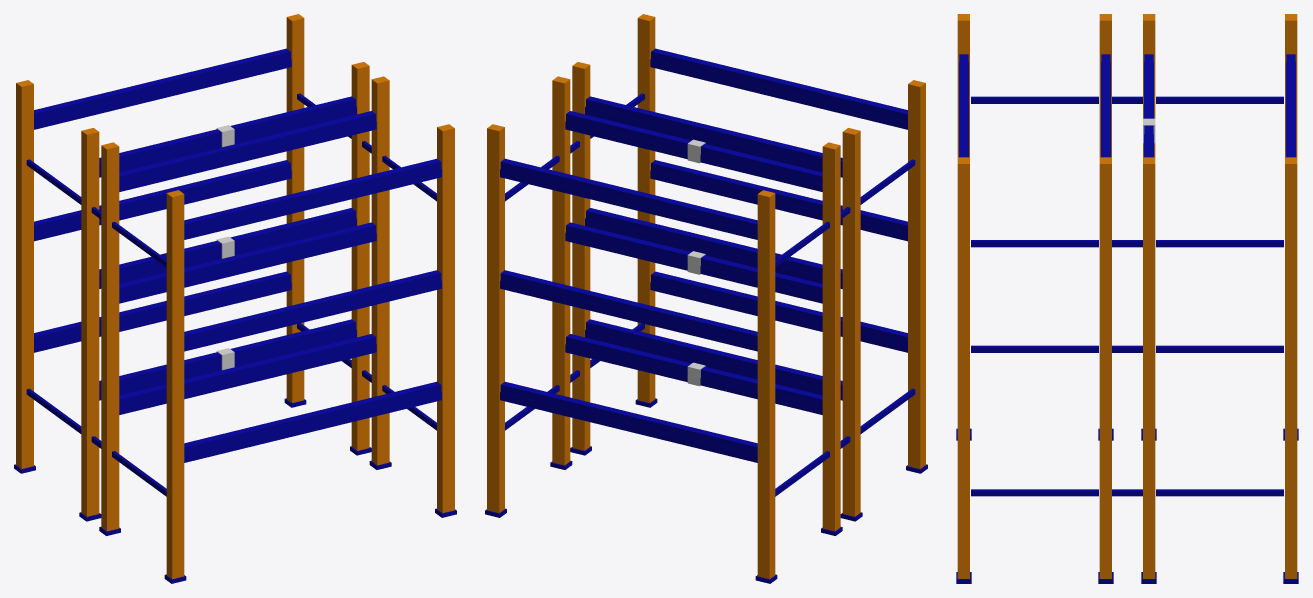
The model's file is high-duty-C23-3-pair.glb.
The picture shows the model from 3 angles, left to right: view 1: azimuth 30°, elevation 25°; view 2: azimuth 150°, elevation 25°; view 3: azimuth 270°, elevation 25°; orthographic projection. The views are drawn at different scales.
Parts seen in each view (by area): view 1: group2_geometry_0, group2_geometry_4, group1_geometry_0, group1_geometry_4, group2_geometry_2, group2_geometry_6, group1_geometry_2, group1_geometry_6, group2_geometry_12, group2_geometry_8, group2_geometry_16, group1_geometry_20 (+20 smaller); view 2: group1_geometry_4, group1_geometry_0, group2_geometry_4, group2_geometry_0, group1_geometry_6, group1_geometry_2, group2_geometry_6, group2_geometry_2, group1_geometry_15, group1_geometry_10, group1_geometry_20, group2_geometry_16 (+20 smaller); view 3: group1_geometry_2, group1_geometry_6, group2_geometry_2, group2_geometry_6, group1_geometry_20, group2_geometry_16, group2_geometry_18, group1_geometry_23, group1_geometry_24, group1_geometry_25, group1_geometry_26, group2_geometry_20 (+8 smaller).
Boxes of the visible parts, box(x1,y1,x2,y2) form: group2_geometry_0: box(166, 190, 184, 579); group2_geometry_4: box(101, 142, 119, 531); group1_geometry_0: box(81, 128, 99, 516); group1_geometry_4: box(16, 80, 33, 468); group2_geometry_2: box(437, 124, 454, 513); group2_geometry_6: box(371, 76, 389, 465); group1_geometry_2: box(351, 62, 369, 450); group1_geometry_6: box(286, 14, 304, 402); group2_geometry_12: box(184, 270, 441, 343); group2_geometry_8: box(184, 381, 441, 454); group2_geometry_16: box(184, 158, 441, 231); group1_geometry_20: box(34, 48, 290, 121); group1_geometry_4: box(757, 190, 775, 579); group1_geometry_0: box(822, 142, 840, 531); group2_geometry_4: box(842, 128, 860, 516); group2_geometry_0: box(908, 80, 925, 468); group1_geometry_6: box(487, 124, 504, 513); group1_geometry_2: box(552, 76, 570, 465); group2_geometry_6: box(572, 62, 590, 450); group2_geometry_2: box(637, 14, 655, 402); group1_geometry_15: box(500, 270, 757, 343); group1_geometry_10: box(500, 381, 757, 454); group1_geometry_20: box(500, 158, 757, 231); group2_geometry_16: box(651, 48, 907, 121); group1_geometry_2: box(1143, 157, 1155, 578); group1_geometry_6: box(1285, 157, 1297, 578); group2_geometry_2: box(957, 157, 969, 578); group2_geometry_6: box(1099, 157, 1111, 578); group1_geometry_20: box(1286, 54, 1295, 157); group2_geometry_16: box(959, 54, 968, 157); group2_geometry_18: box(1101, 54, 1110, 157); group1_geometry_23: box(1156, 345, 1283, 352); group1_geometry_24: box(1156, 96, 1283, 103); group1_geometry_25: box(1156, 489, 1283, 496); group1_geometry_26: box(1156, 240, 1283, 247); group2_geometry_20: box(971, 345, 1098, 352).
Bounding box in the file's own units: 2320 × 3000 × 2220.
